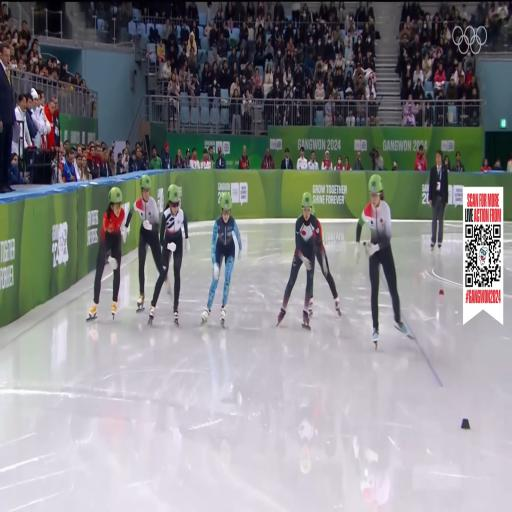Skater: (356, 175, 411, 347), (278, 192, 321, 329), (149, 184, 189, 325), (202, 192, 242, 327), (88, 187, 126, 319), (126, 175, 161, 311), (312, 206, 341, 315)
